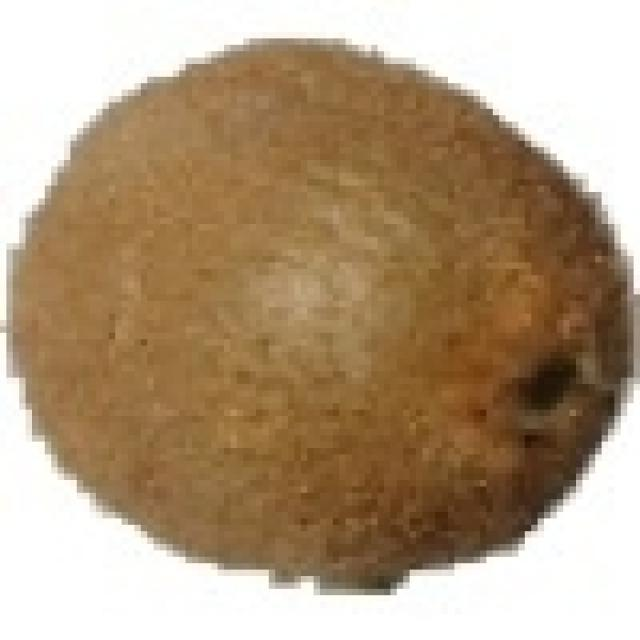kiwi: (6, 32, 614, 576)
